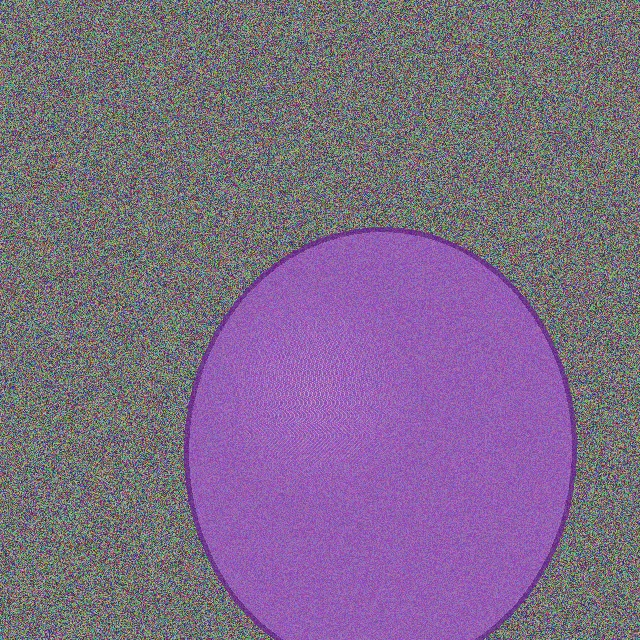lens: (186, 229, 574, 640)
